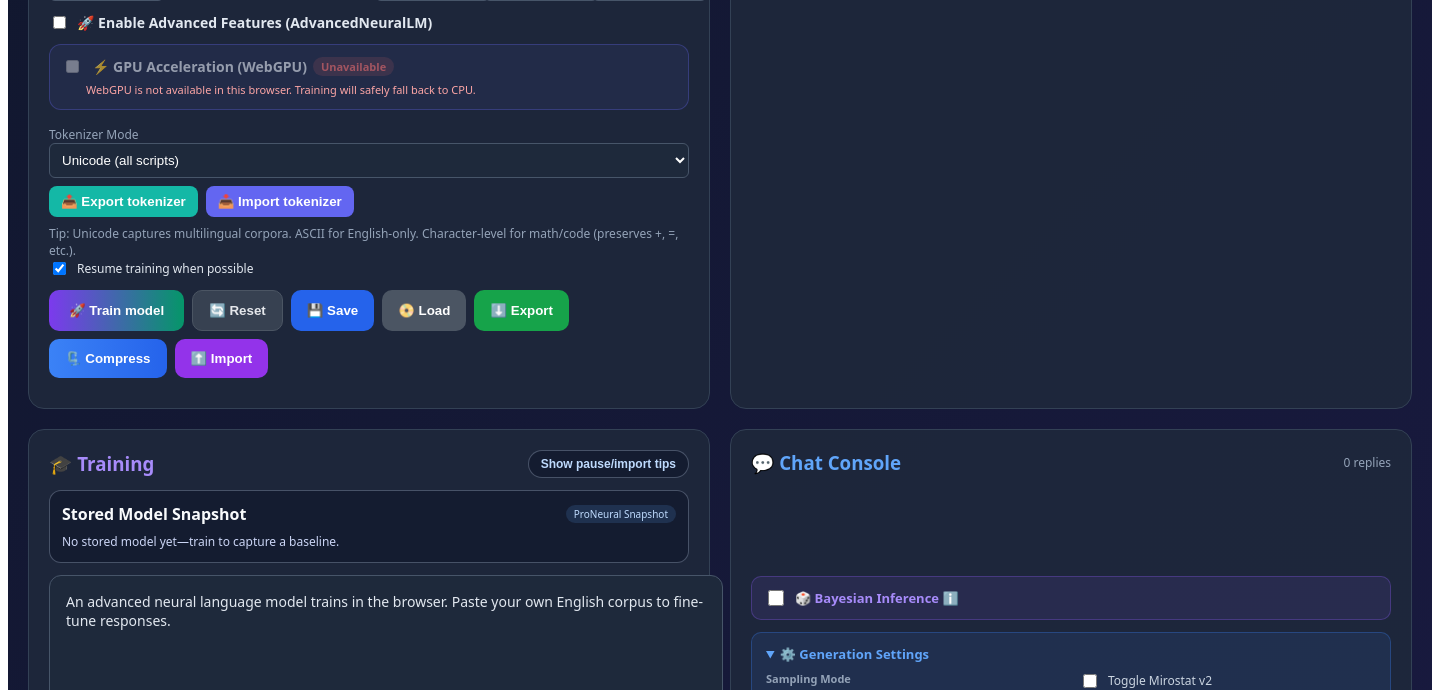
Neuro-Lingua App UI › blocks training when decision ledger status is HOLD
(page scrolled)
What coordinates should you click on to do the following:
click the button with aria-label "start model training"
I would click on:
 (117, 310)
Its box is x1=49 y1=290 x2=184 y2=330.
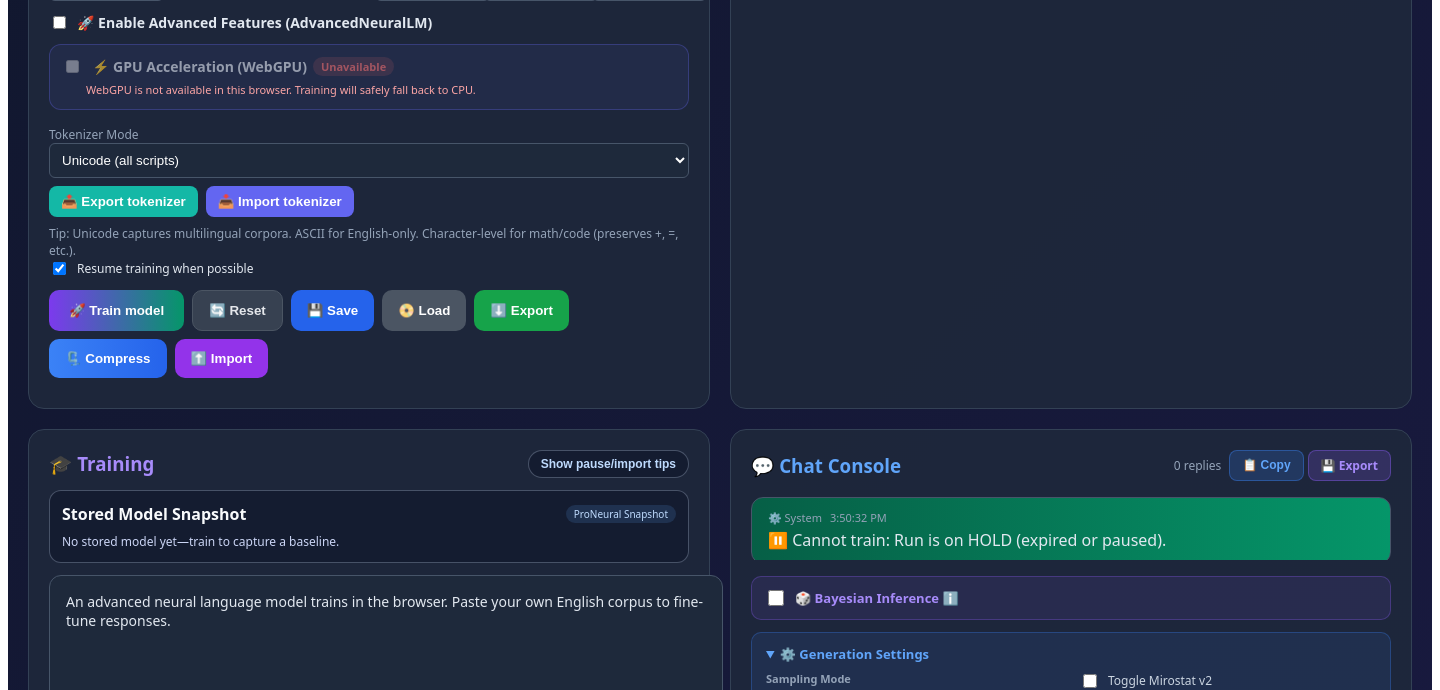
Result: the text "⏸️ Cannot train: Run is on HOLD (expired or paused)." is shown at x1=768 y1=528 x2=1166 y2=550
